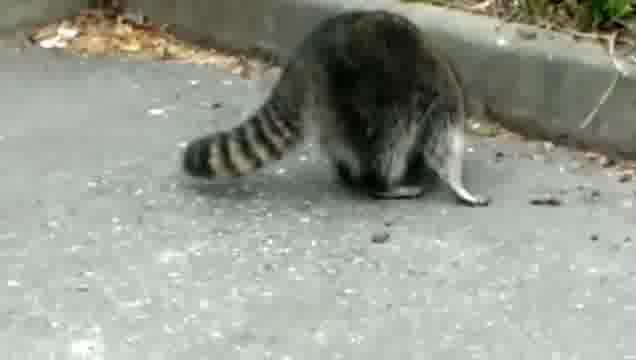raccoon: (184, 9, 492, 208)
